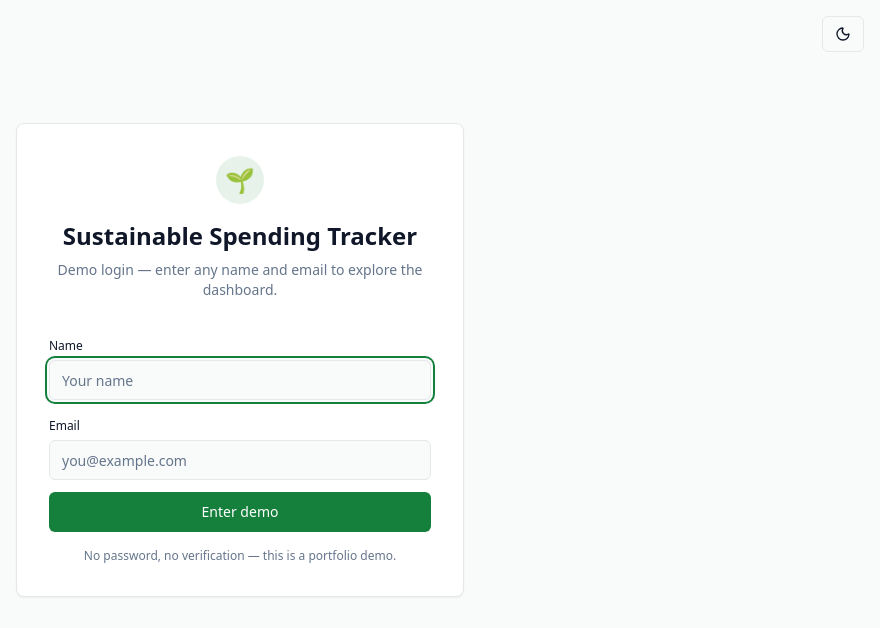
Test: LoginPage › shows an accessible error instead of failing silently on empty submit
The image size is (880, 628).
Click the button "Enter demo". click: (240, 512)
box: [49,492,431,532]
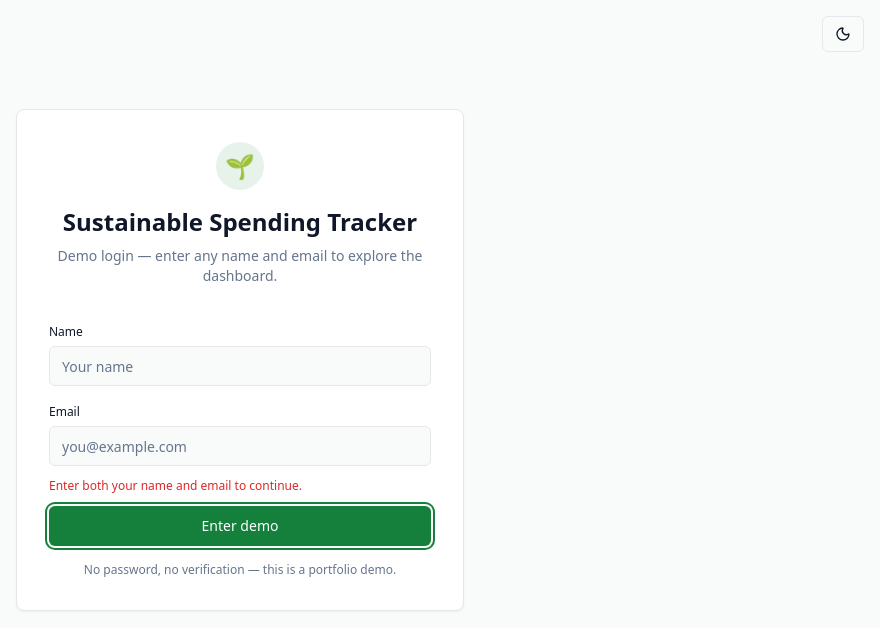
expect the message shows "name and email": met, box [49,477,302,494]
